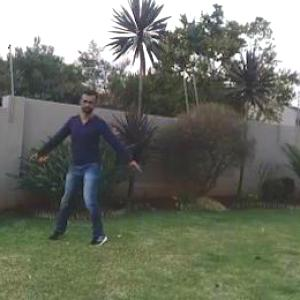land: (23, 78, 167, 255)
